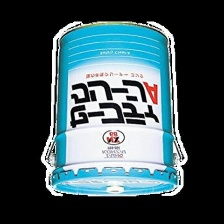cleaning_solution: (44, 18, 182, 199)
